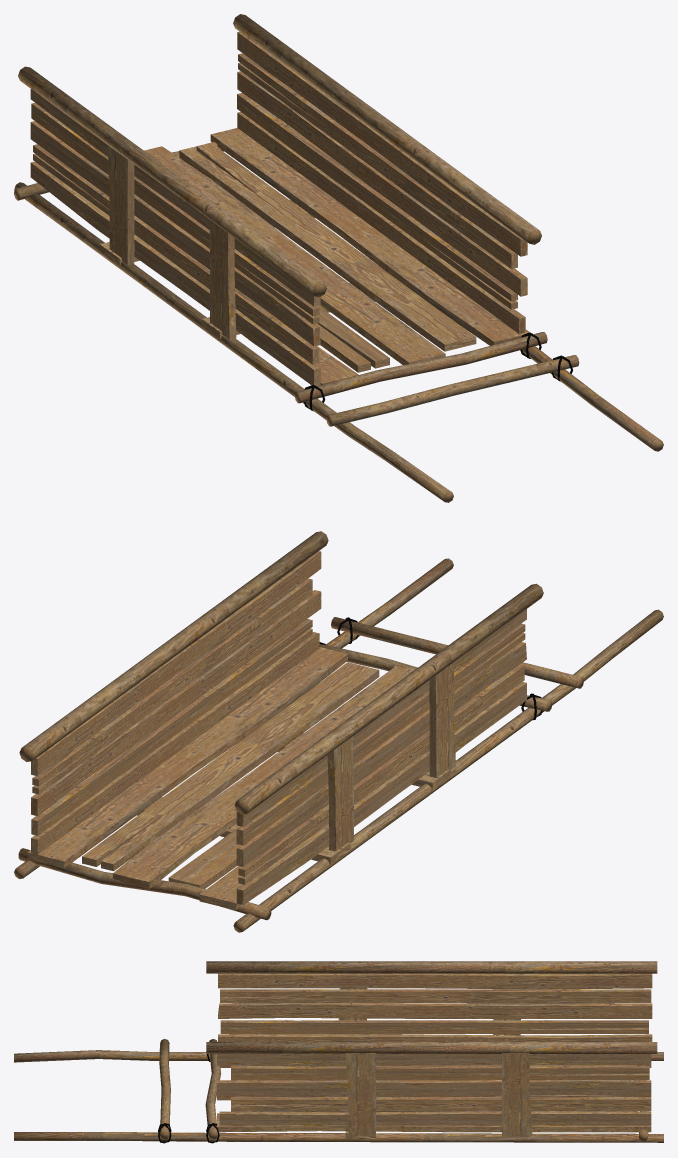
The picture shows the model from 3 angles, top to bottom: view 1: azimuth 30°, elevation 25°; view 2: azimuth 150°, elevation 25°; view 3: azimuth 270°, elevation 25°; orthographic projection. The views are drawn at different scales.
Parts seen in each view (by area): view 1: plank_pile1.003_Baked_Baked; view 2: plank_pile1.003_Baked_Baked; view 3: plank_pile1.003_Baked_Baked.
Part boxes in pixels (x1,y1,x2,y2): plank_pile1.003_Baked_Baked: (14, 14, 663, 502); plank_pile1.003_Baked_Baked: (14, 531, 663, 932); plank_pile1.003_Baked_Baked: (14, 961, 663, 1143).
Bounding box in the file's own units: 232 × 119 × 689.
